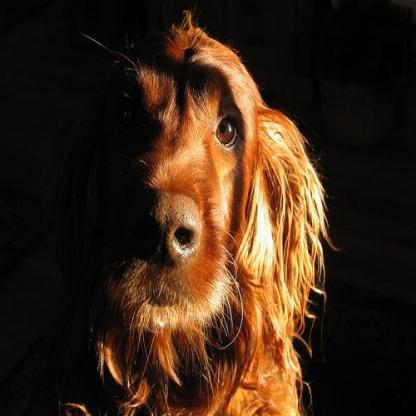Irish_setter: (38, 0, 340, 413)
